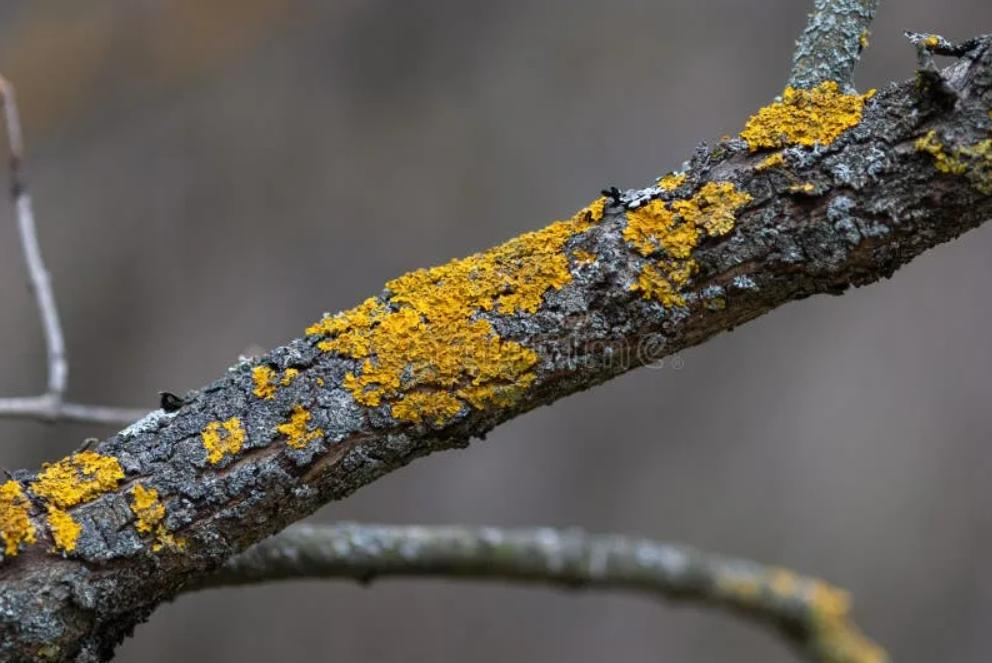lichen: (306, 199, 603, 423), (624, 184, 749, 262), (740, 81, 874, 151), (31, 451, 124, 510), (0, 481, 35, 555), (631, 263, 683, 305), (277, 405, 322, 448), (202, 417, 244, 463), (131, 484, 164, 539), (253, 365, 277, 398), (52, 524, 77, 549), (663, 266, 688, 284)
